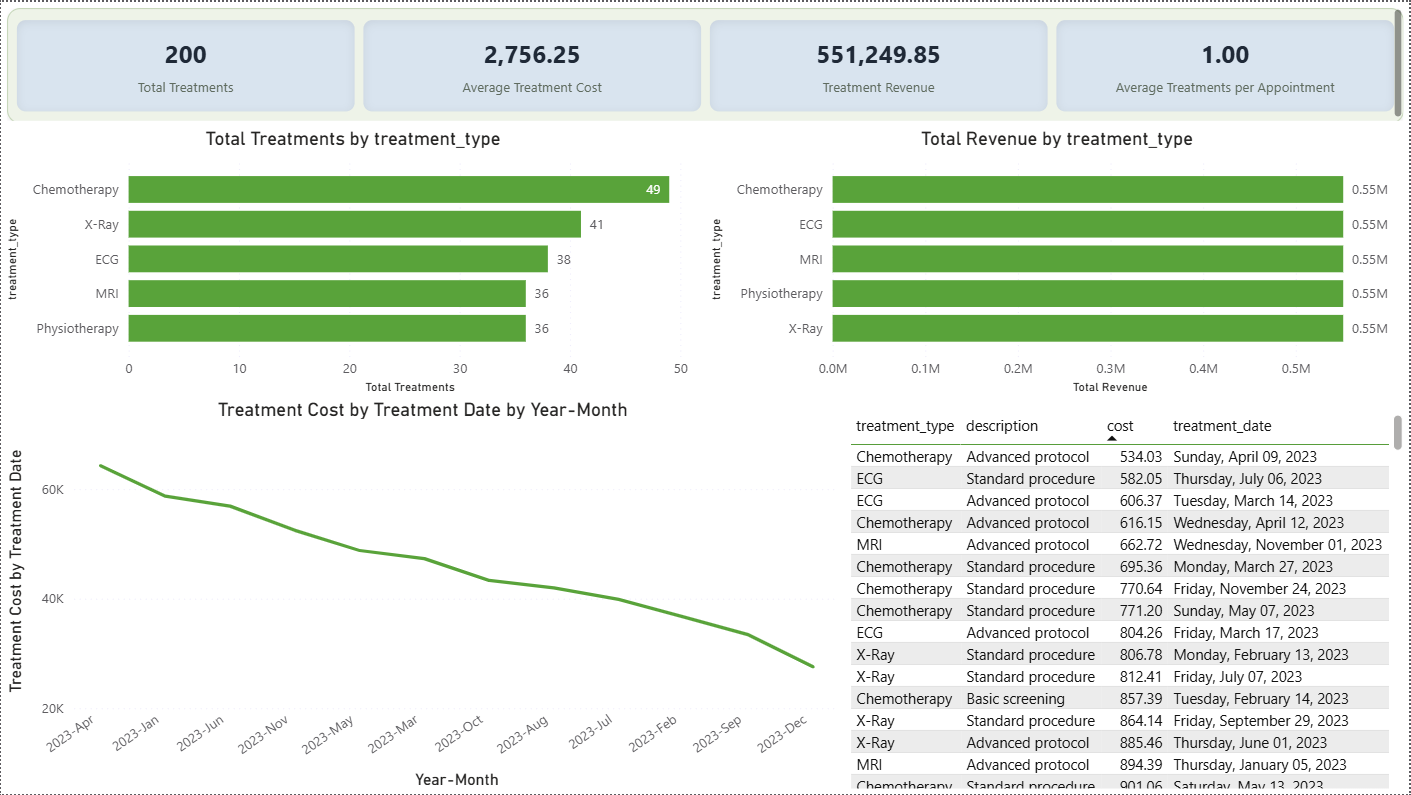

The dashboard page shown, as its layout file describes it:
{"tool":"powerbi","page":{"name":"Treatment Analysis","canvas":[1280,720],"ordinal":4},"visuals":[{"type":"barChart","fields":{"Category":["treatments.treatment_type"],"Y":["DateTable.Total Treatments"]},"box":[0,113.3,640,246.7],"z":0},{"type":"barChart","fields":{"Category":["treatments.treatment_type"],"Y":["billing.Total Revenue"]},"box":[640,113.3,640,246.7],"z":1000},{"type":"lineChart","fields":{"Category":["DateTable.Year-Month"],"Y":["DateTable.Treatment Cost by Treatment Date"]},"box":[0,360,766.7,360],"z":2000},{"type":"tableEx","fields":{"Values":["treatments.treatment_type","treatments.description","treatments.cost","treatments.treatment_date"]},"box":[766.7,370,513.3,350],"z":3000},{"type":"htmlContent443BE3AD55E043BF878BED274D3A6855","fields":{"content":["DateTable.Treatment Cards Group HTML"]},"box":[0,0,1280,113.3],"z":7001}]}

Visuals, with their boxes in screenshot pixels (x1, y1, x2, y2), scaled from the page's 1280x720 canvas onto the 1411x795 screenshot:
barChart - treatments.treatment_type x DateTable.Total Treatments: box(0, 125, 706, 398)
barChart - treatments.treatment_type x billing.Total Revenue: box(706, 125, 1410, 398)
lineChart - DateTable.Year-Month x DateTable.Treatment Cost by Treatment Date: box(0, 398, 845, 794)
tableEx - treatments.treatment_type x treatments.description: box(845, 409, 1410, 794)
htmlContent443BE3AD55E043BF878BED274D3A6855 - DateTable.Treatment Cards Group HTML: box(0, 0, 1410, 125)
